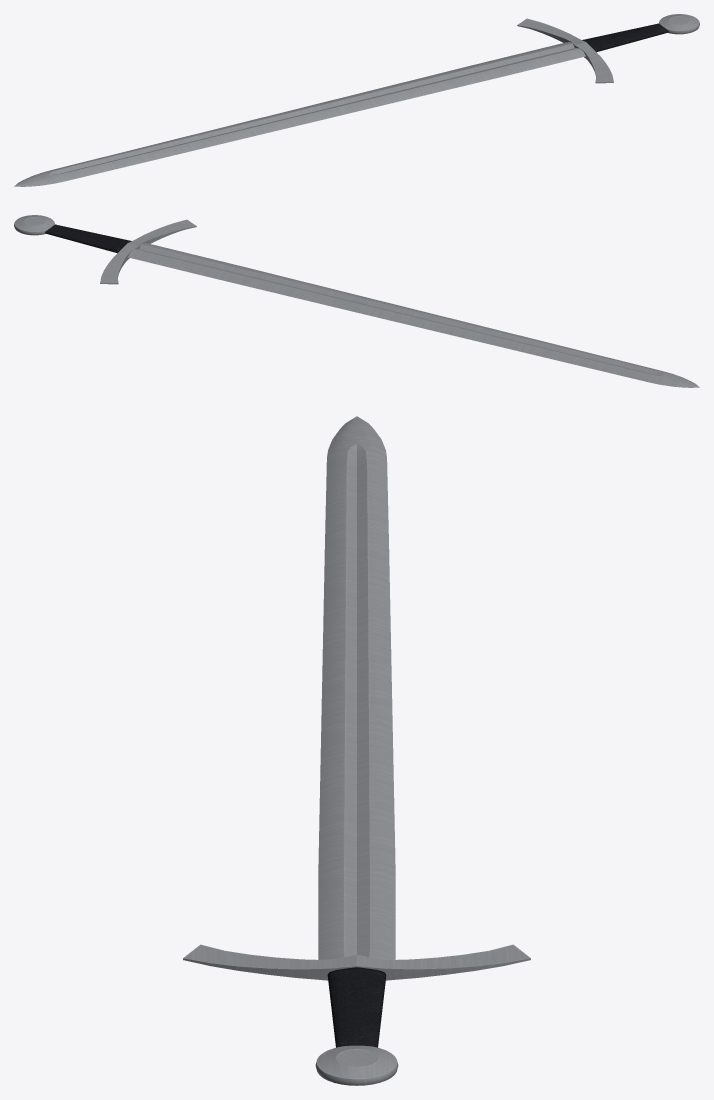
File: sword_ac1ceaf3.glb
3 renders of one model, top to bottom at view 1: azimuth 30°, elevation 25°; view 2: azimuth 150°, elevation 25°; view 3: azimuth 270°, elevation 25°, orthographic. The views are drawn at different scales.
Parts seen in each view (by area): view 1: Sword; view 2: Sword; view 3: Sword.
Part boxes in pixels (x1,y1,x2,y2): Sword: (14,14,699,186); Sword: (14,215,699,387); Sword: (183,416,530,1085).
Size of the model in its own units: 675 by 8.31 by 149.
1 material, 1 textured.
